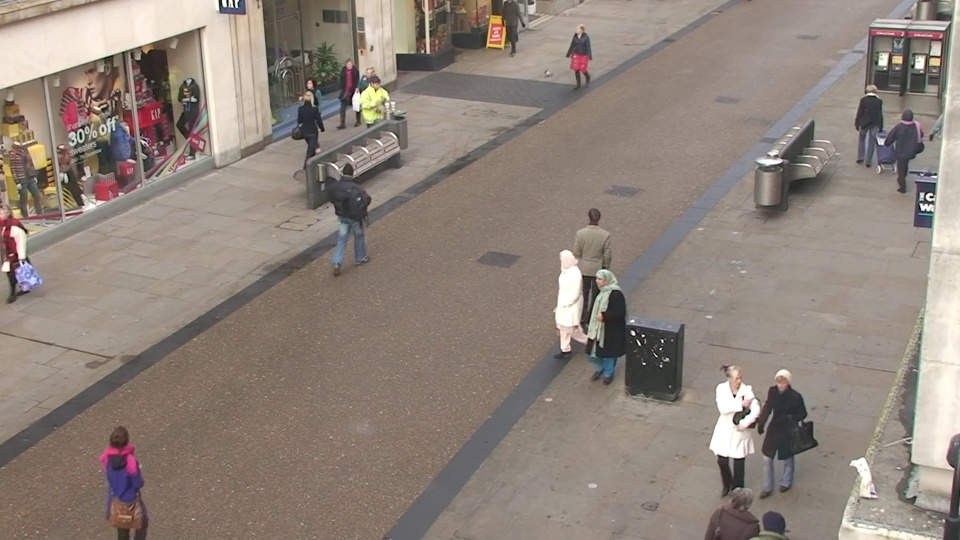pedestrian: (750, 359, 808, 519), (91, 412, 163, 540), (703, 356, 759, 515), (582, 262, 626, 397), (546, 243, 587, 374), (705, 469, 770, 540), (577, 203, 615, 323), (881, 106, 924, 203), (333, 158, 371, 264), (850, 81, 889, 171), (737, 492, 804, 540), (295, 87, 327, 173), (299, 73, 330, 156), (362, 73, 392, 156), (358, 63, 387, 143), (338, 55, 367, 133), (569, 21, 593, 91)
